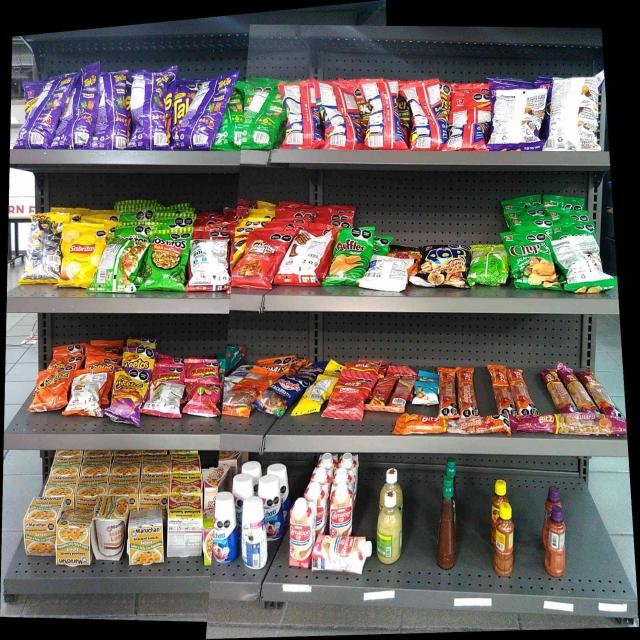bitzAlmendras: (415, 380, 438, 406)
bitzEnchilado90: (334, 375, 367, 419)
bitzEnchilado95: (394, 416, 511, 436), (490, 365, 536, 413), (440, 368, 456, 415), (458, 366, 473, 414)
bitzHabanero: (545, 370, 604, 410), (511, 416, 623, 434)
bokadosCacahuates: (268, 375, 298, 414)
botaneraChilito: (494, 502, 516, 580)
cheetosFlaminHot: (113, 369, 144, 426), (124, 346, 154, 370)
cheetosOriginal: (37, 370, 67, 407)
chipsJalapeno: (512, 234, 554, 291)
churrumais: (186, 383, 220, 416), (184, 356, 219, 378)
delPrimoSalsa: (378, 490, 403, 565)
leoMix: (228, 376, 256, 416)
maruchanPollo: (93, 496, 127, 564), (24, 496, 56, 557), (130, 511, 164, 567), (58, 510, 90, 568)
maruchanRes: (169, 496, 201, 557)
nestleCarnation: (314, 535, 374, 576), (288, 498, 312, 568), (332, 486, 354, 534)
nestleLechera: (213, 493, 236, 563), (241, 497, 261, 568), (265, 480, 280, 536)
popKarameladas: (423, 247, 465, 290)
productoAtras: (548, 78, 603, 152), (492, 86, 541, 151), (130, 68, 169, 146), (363, 76, 401, 150), (319, 80, 358, 150), (279, 82, 315, 150), (559, 235, 599, 294), (192, 228, 228, 292), (410, 78, 440, 152), (450, 93, 488, 151), (100, 70, 128, 148), (241, 92, 279, 148), (184, 94, 222, 149), (105, 240, 143, 294), (32, 215, 58, 284), (289, 232, 321, 288), (31, 88, 60, 149), (76, 64, 96, 148), (469, 243, 506, 288), (72, 371, 106, 418), (370, 257, 408, 293), (377, 372, 411, 409), (148, 381, 180, 418), (302, 376, 331, 402)
rancheritos: (243, 234, 279, 291)
rufflesQueso: (333, 233, 366, 288)
sabritasOriginal: (60, 228, 101, 280)
salsaBufalo: (436, 474, 456, 569)
tajinDulce: (544, 505, 570, 578)
tostitos: (147, 231, 188, 292)
